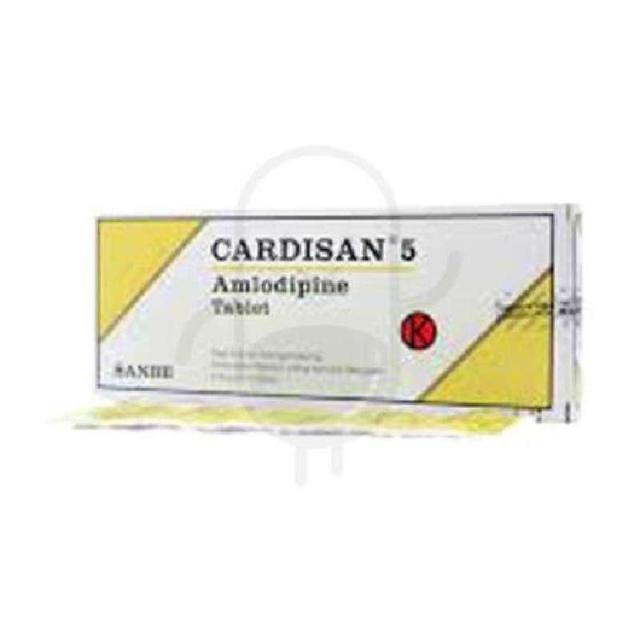drug-name: (208, 232, 420, 264)
